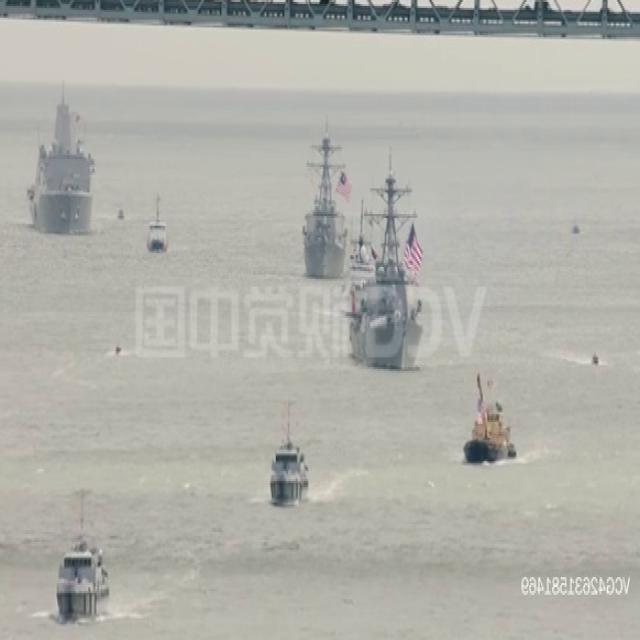houseboat: (53, 480, 110, 616), (464, 373, 517, 464), (267, 401, 308, 502), (341, 218, 372, 316), (149, 194, 168, 251), (116, 208, 126, 223), (591, 350, 600, 365), (114, 342, 122, 354), (574, 224, 580, 238)
navalvessels: (350, 160, 422, 362), (28, 84, 94, 230), (300, 131, 350, 274)
